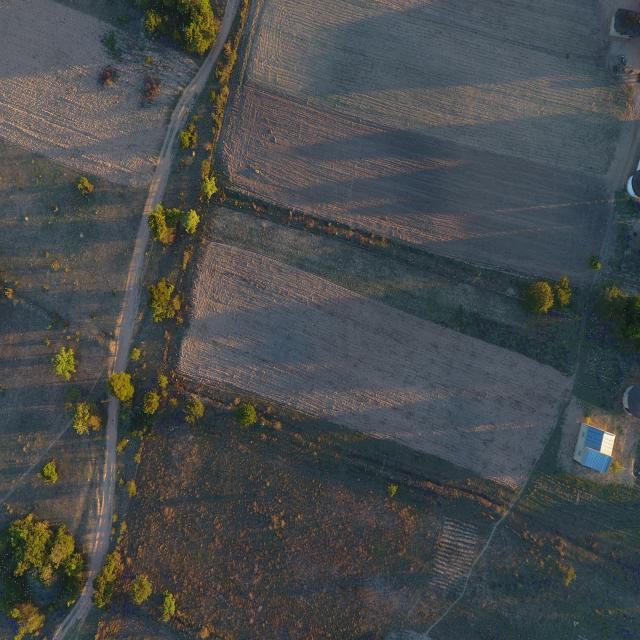boundaries: (139, 172, 590, 543)
